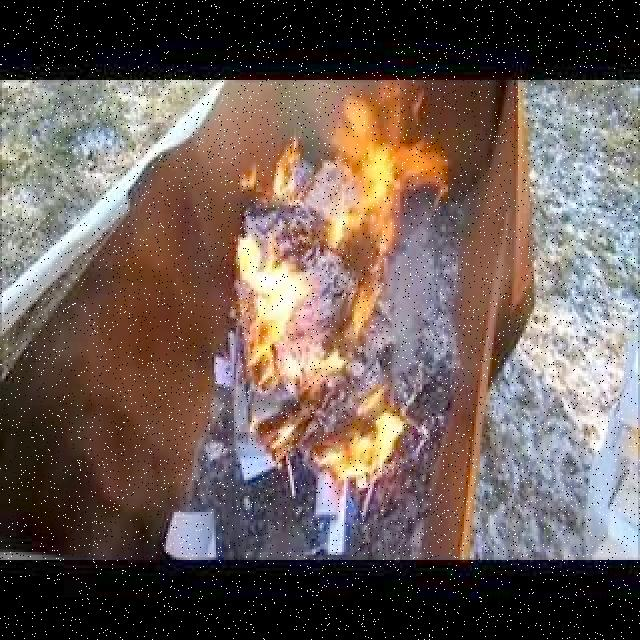fire: (338, 103, 435, 239), (234, 242, 303, 368), (326, 408, 397, 482)
